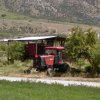Tractor: (28, 41, 76, 77)
